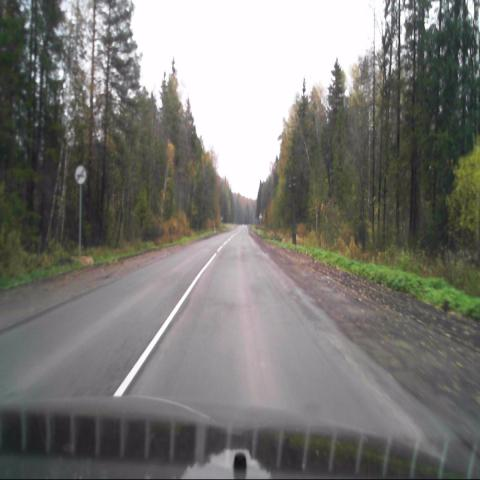3_21: (73, 165, 88, 186)
